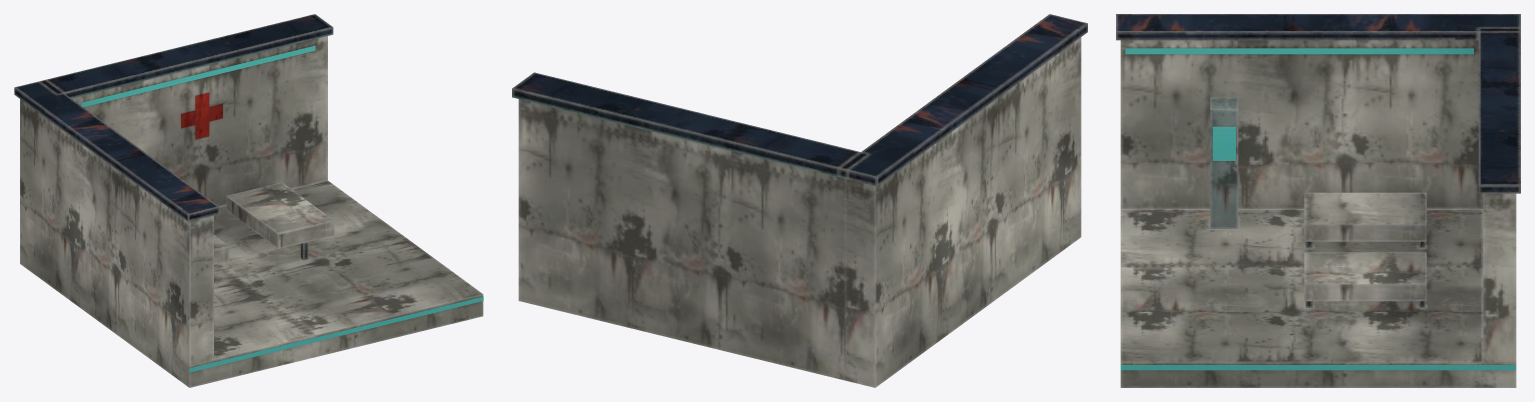
File: medical_center.glb
3 views of the same model, side by side, from view 1: azimuth 30°, elevation 25°; view 2: azimuth 150°, elevation 25°; view 3: azimuth 270°, elevation 25° (orthographic). The views are drawn at different scales.
Parts seen in each view (by area): view 1: te_medical_center; view 2: te_medical_center; view 3: te_medical_center.
Boxes of the visible parts, x1,y1,x2,y2 form: te_medical_center: [14, 14, 483, 387]; te_medical_center: [512, 14, 1087, 387]; te_medical_center: [1116, 14, 1520, 387].
Size of the model in its own units: 0.86 by 0.48 by 0.86.
1 material, 1 textured.
